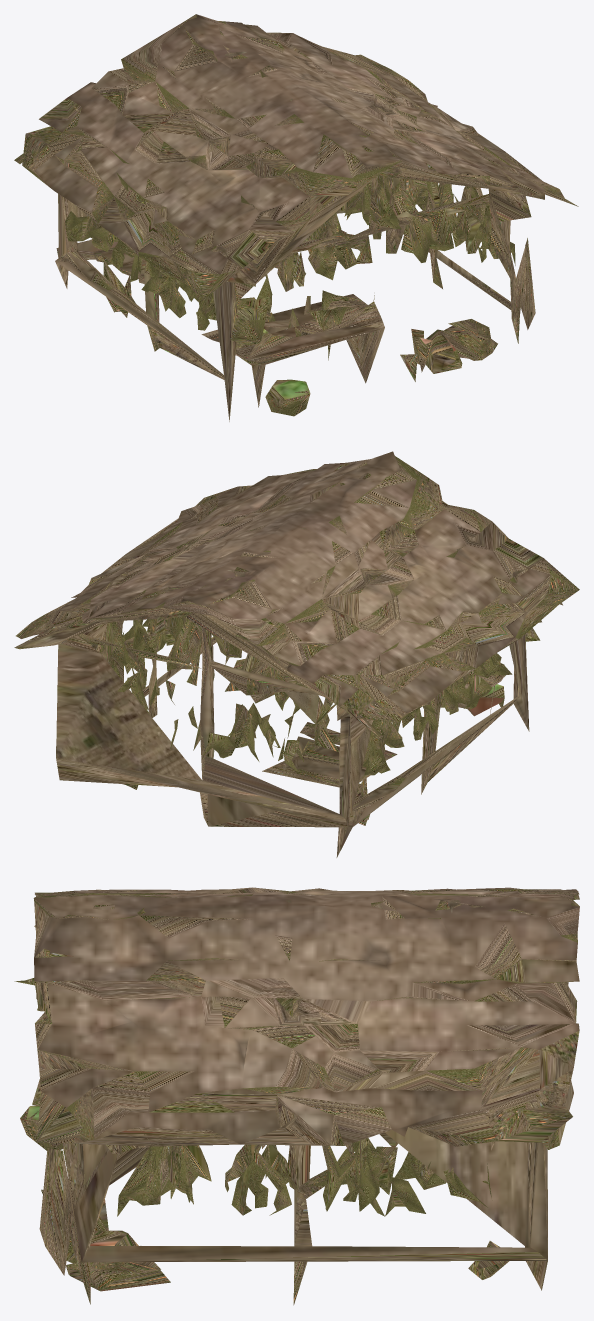
The model's file is bq_incense.lod1.glb.
3 views of the same model, one above another, from view 1: azimuth 30°, elevation 25°; view 2: azimuth 150°, elevation 25°; view 3: azimuth 270°, elevation 25° (orthographic). The views are drawn at different scales.
Parts seen in each view (by area): view 1: mesh_node; view 2: mesh_node; view 3: mesh_node.
Boxes of the visible parts, bbox=[...] form: mesh_node: bbox=[14, 14, 578, 421]; mesh_node: bbox=[14, 451, 579, 857]; mesh_node: bbox=[14, 887, 579, 1305].
Size of the model in its own units: 1.9 by 1.11 by 1.83.
1 material, 1 textured.
